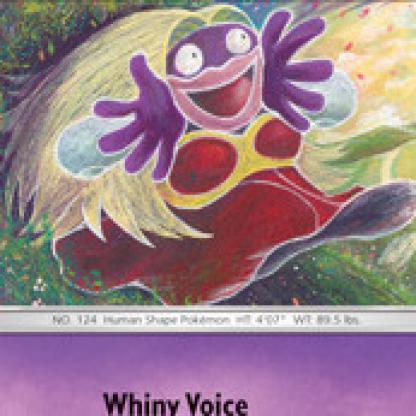Jynx: (22, 1, 416, 413)
